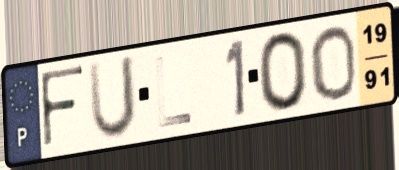1: (222, 36, 247, 121)
F: (37, 63, 87, 152)
L: (154, 53, 195, 131)
O: (255, 29, 311, 115), (307, 23, 359, 103)
U: (86, 52, 138, 143)
